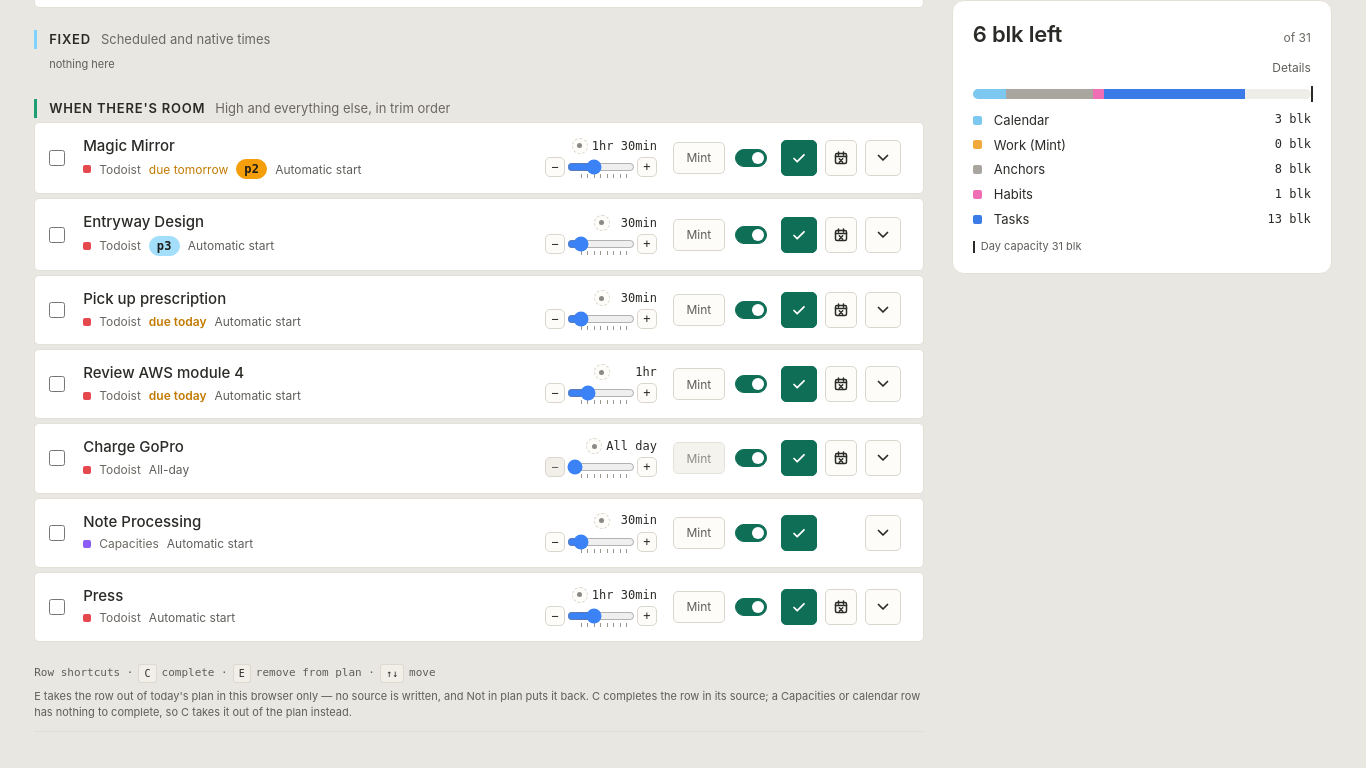
Test: U6: a tier collapses and expands › hides its rows, says so in words, and comes back
(page scrolled)
Step 1. Press e in the element showing "Press Todoist Automatic start 1hr 30min − + Mint", box [34,572,924,642]
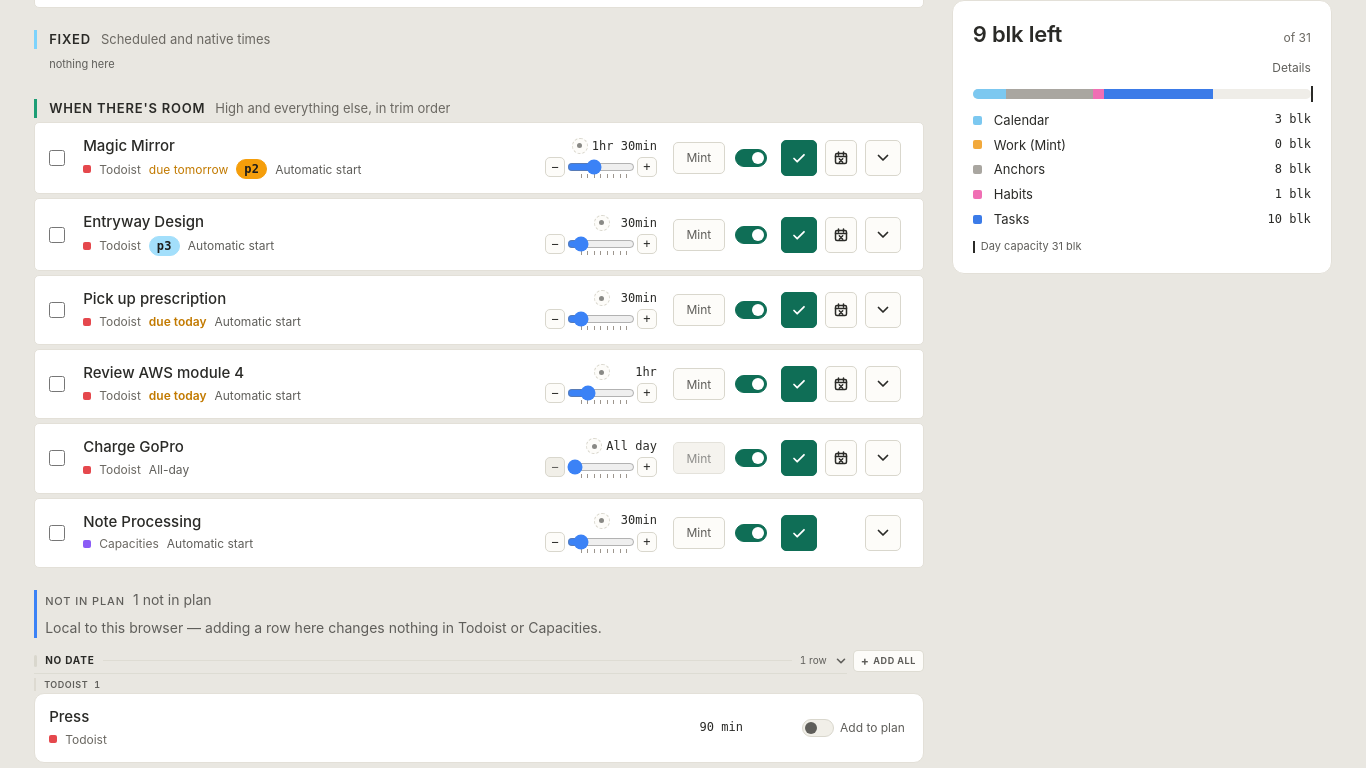
expect the text "Not in plan" is not shown: met
expect the element with id "unassigned-today" is shown: met, box [34,590,924,763]
expect the icon with class "unassigned-tier__chevron" is shown: met, box [835,654,847,666]
Step 2. Click the button "No date 1 row" → [70, 660], box [34,648,847,674]
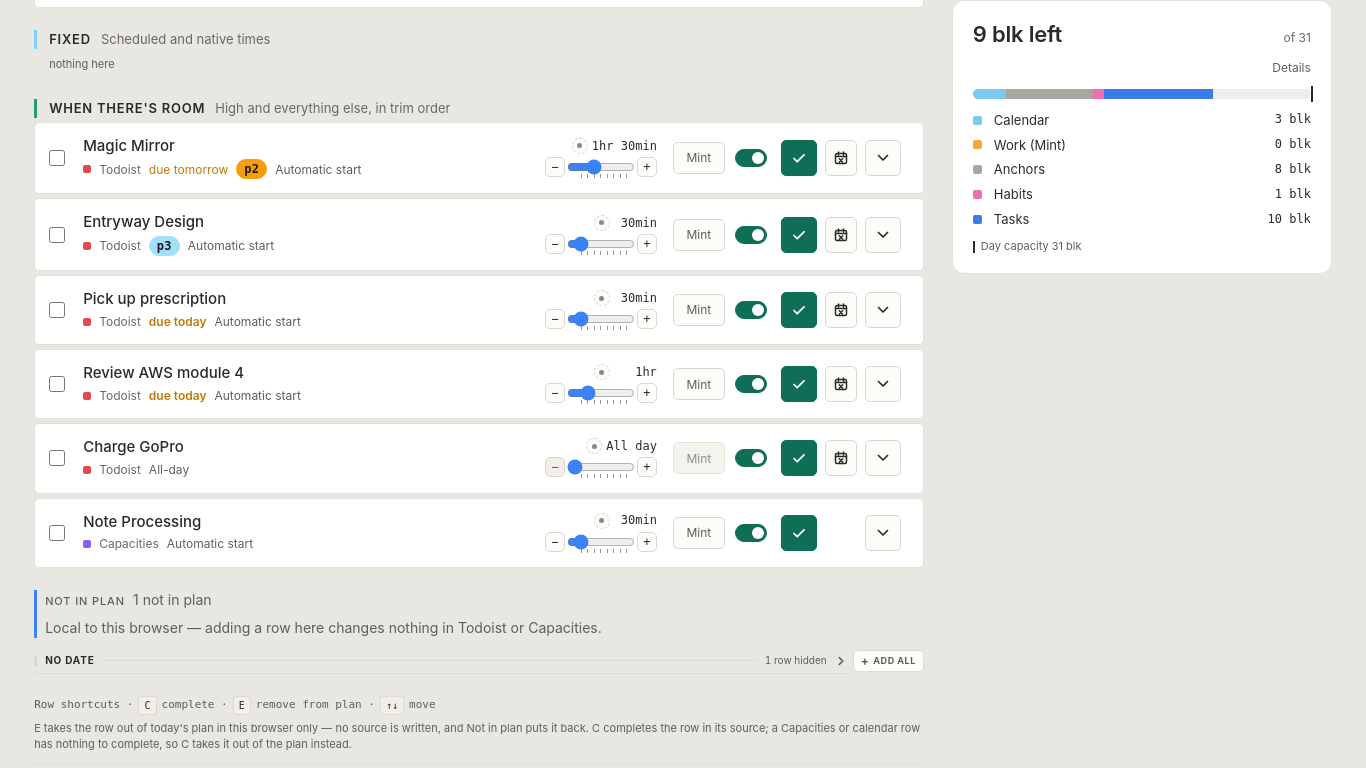
expect the icon with class "unassigned-tier__chevron" is shown: met, box [835,654,847,666]
Step 3. Click the button "No date 1 row hidden" → [70, 660], box [34,648,847,674]
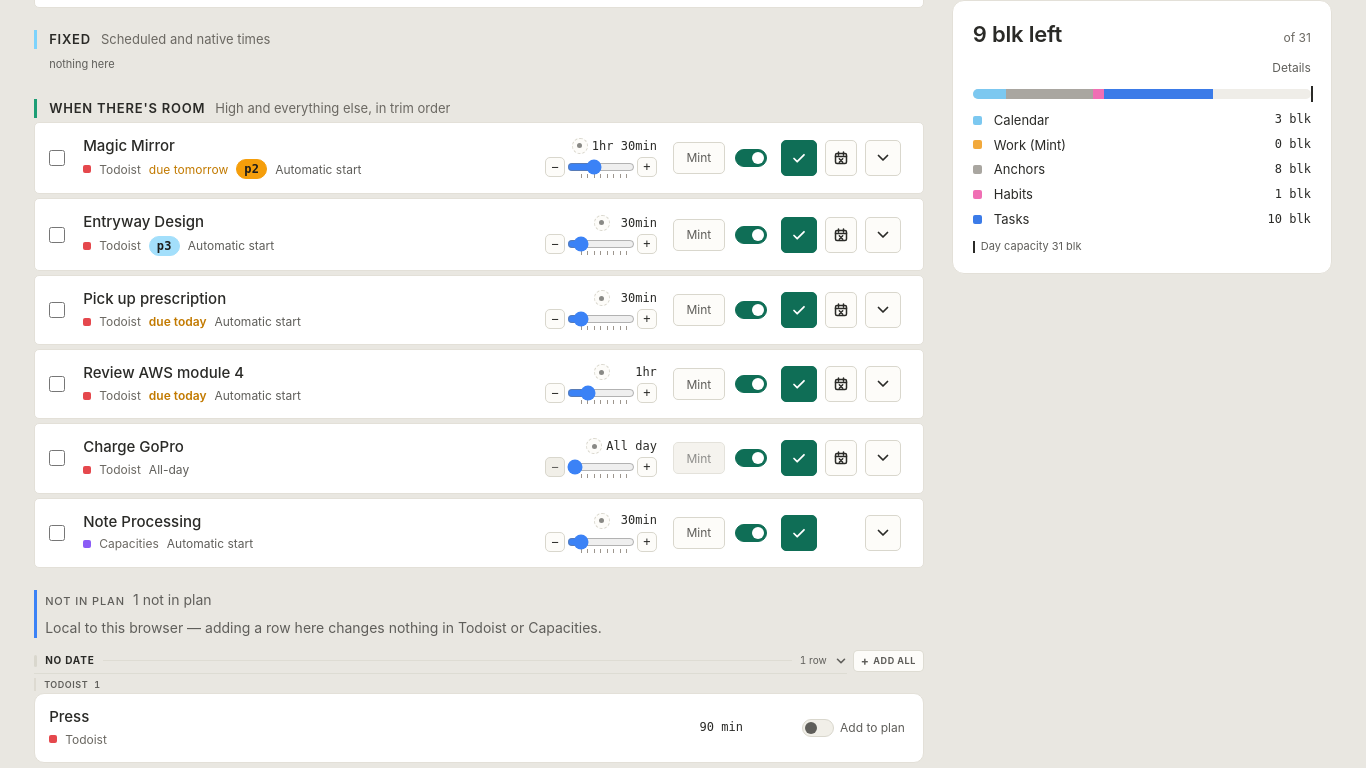
expect the text "Press" is shown: met, box [49,708,89,727]
